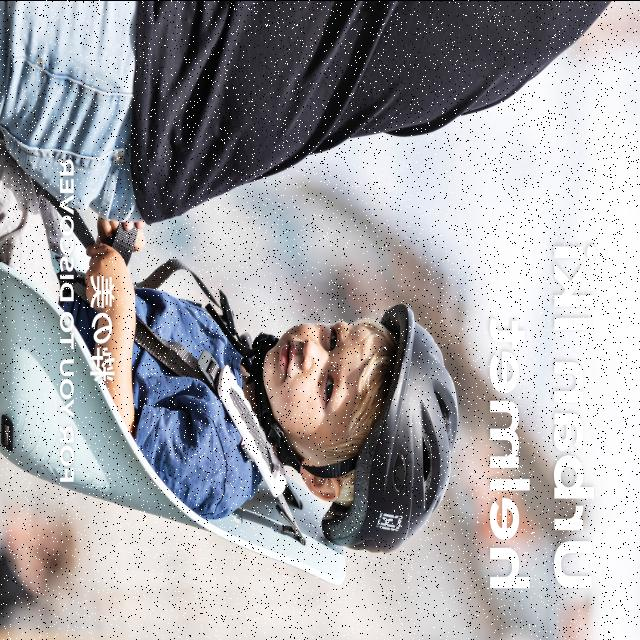Helmet: (308, 296, 460, 554)
